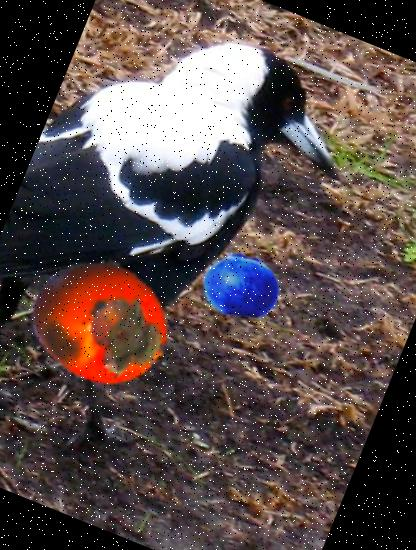Huckleberry: (190, 234, 292, 336)
Kaki: (7, 227, 197, 416)
